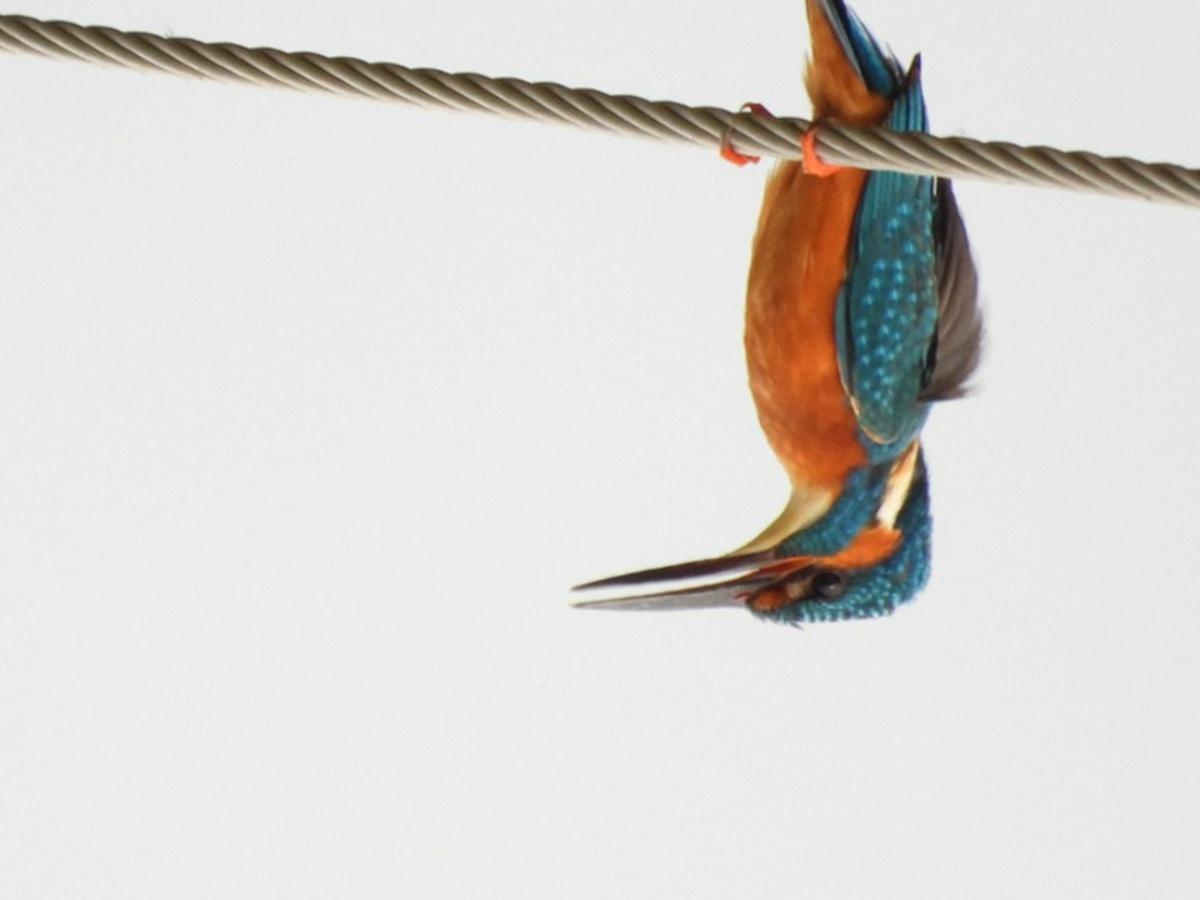kingfisher: (594, 1, 1014, 669)
